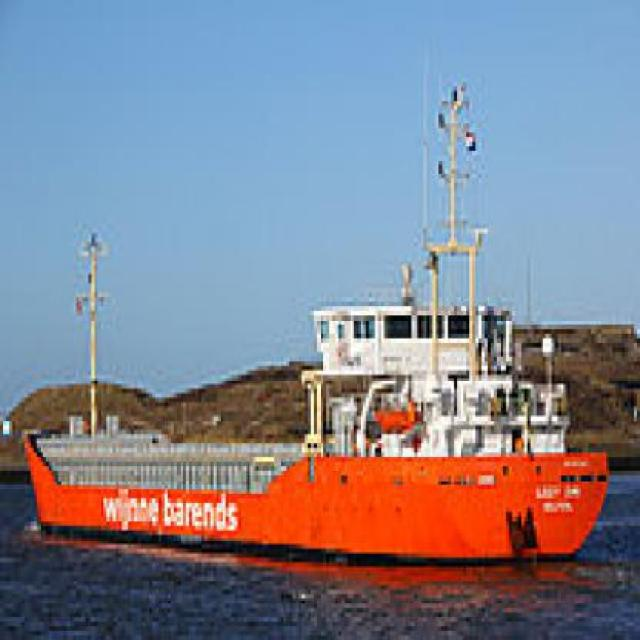container: (16, 60, 614, 577)
